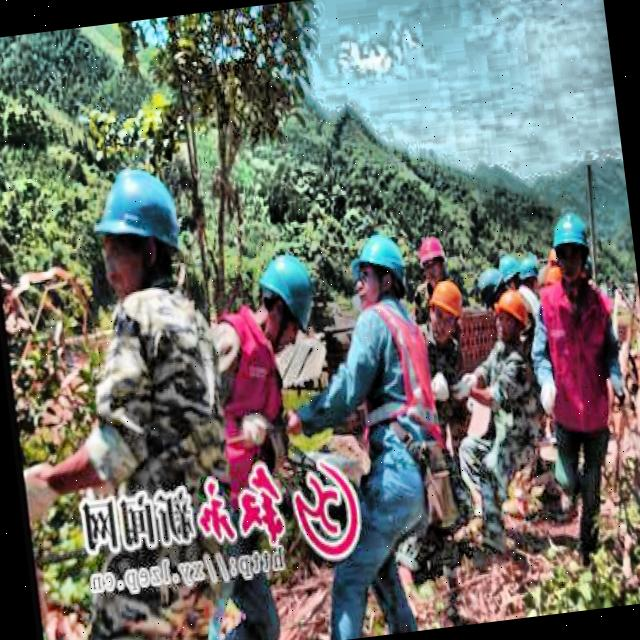helmet: (86, 158, 195, 307), (244, 244, 322, 348), (350, 228, 411, 311), (546, 207, 596, 290), (425, 274, 470, 348), (492, 286, 534, 342), (412, 226, 452, 284), (471, 264, 511, 318), (496, 250, 525, 291)
